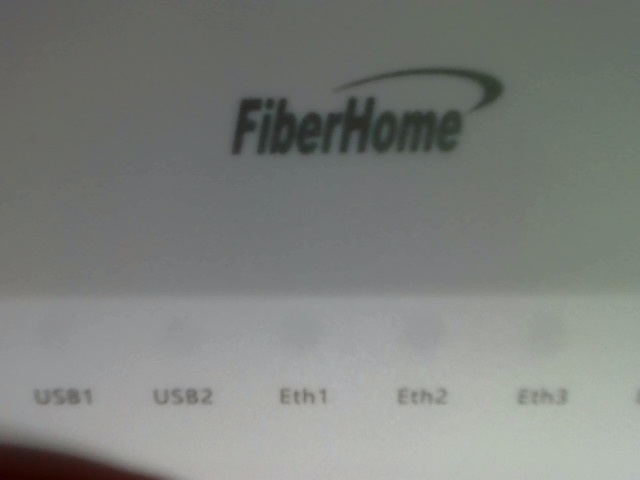AI_FiberHome: (215, 58, 509, 174)
